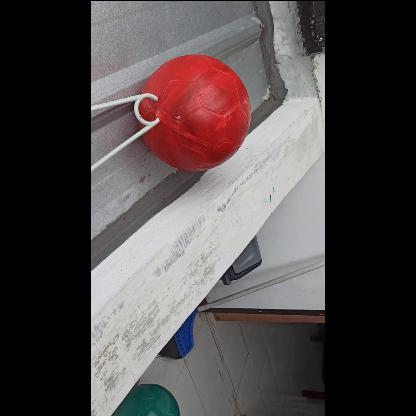red_ball: (137, 55, 251, 169)
